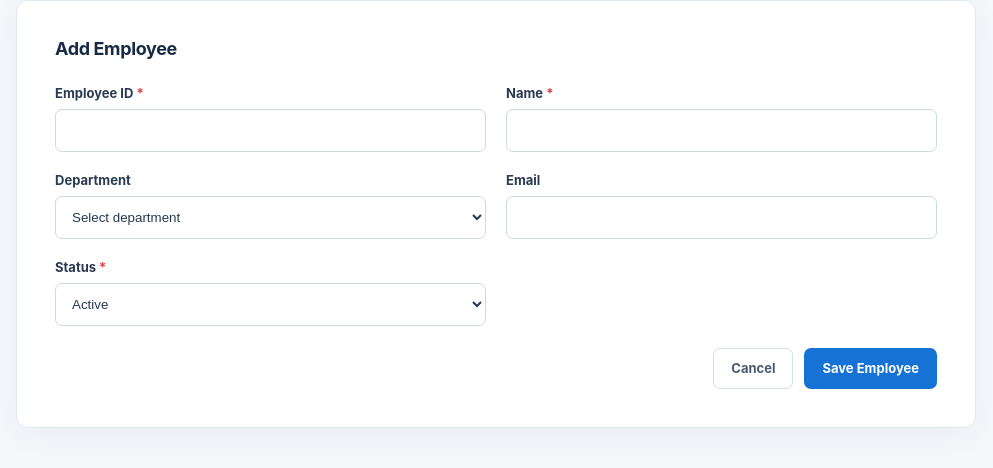
it: EmployeeForm › shows validation errors and does not save an incomplete employee
Click the button "Save Employee" at (871,368), box [804,348,937,389]
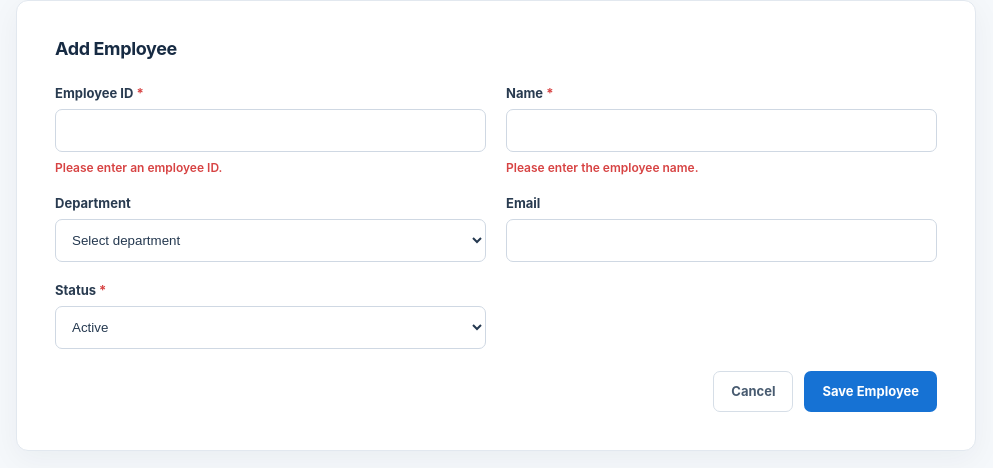
Result: the text "Please enter an employee ID." is shown at [55,160,222,175]
Result: the text "Please enter the employee name." is shown at [506,160,698,175]
